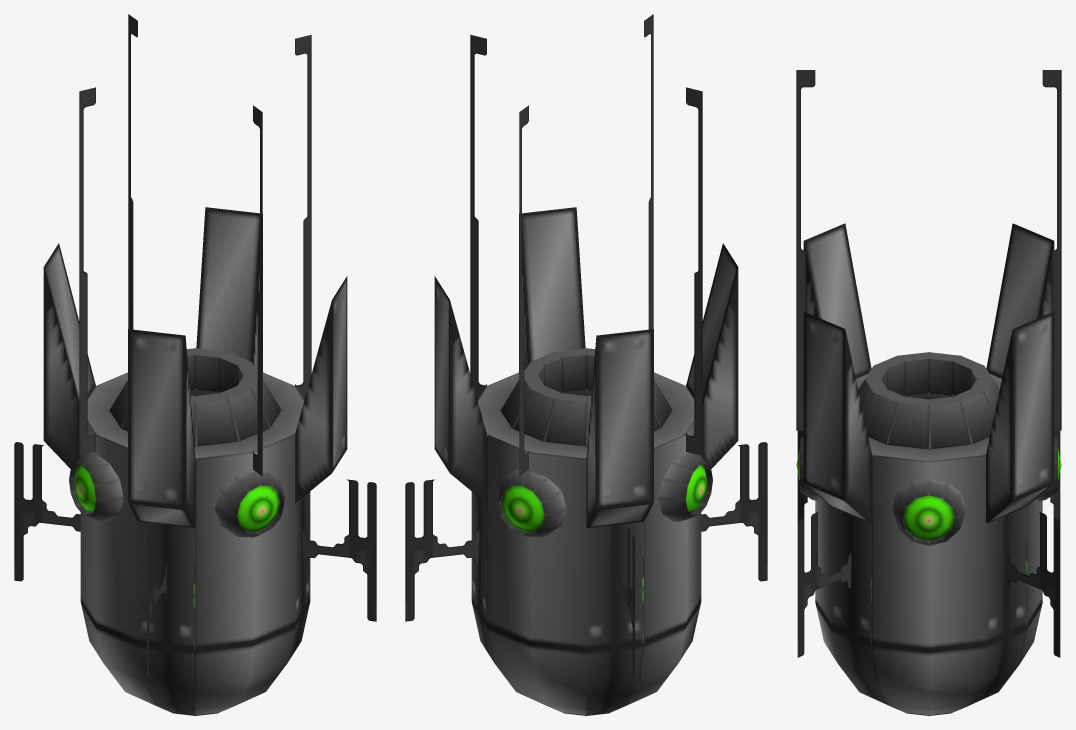
The model's file is bot_prime_head.obj.
3 renders of one model, left to right at view 1: azimuth 30°, elevation 25°; view 2: azimuth 150°, elevation 25°; view 3: azimuth 270°, elevation 25°, orthographic.
Parts seen in each view (by area): view 1: Cylinder; view 2: Cylinder; view 3: Cylinder.
Boxes of the visible parts, x1=… form: Cylinder: x1=14, y1=14, x2=376, y2=715; Cylinder: x1=405, y1=14, x2=767, y2=715; Cylinder: x1=796, y1=70, x2=1061, y2=715.
Bounding box in the file's own units: 3.5 × 9.25 × 3.5.
